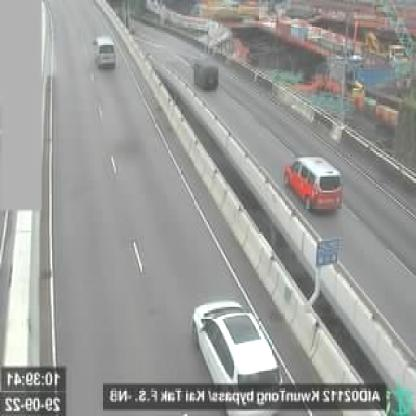Car: (188, 288, 297, 414), (283, 149, 346, 215), (191, 52, 225, 101), (93, 35, 121, 69)
